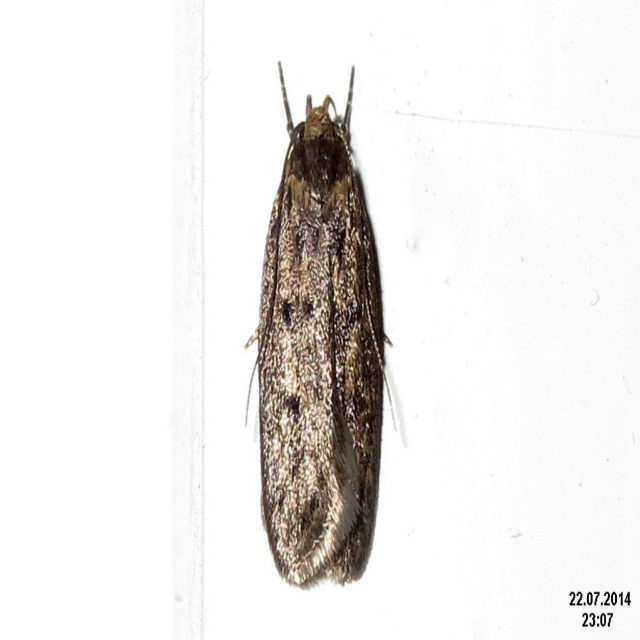Moths and butterflies: (243, 57, 397, 587)
